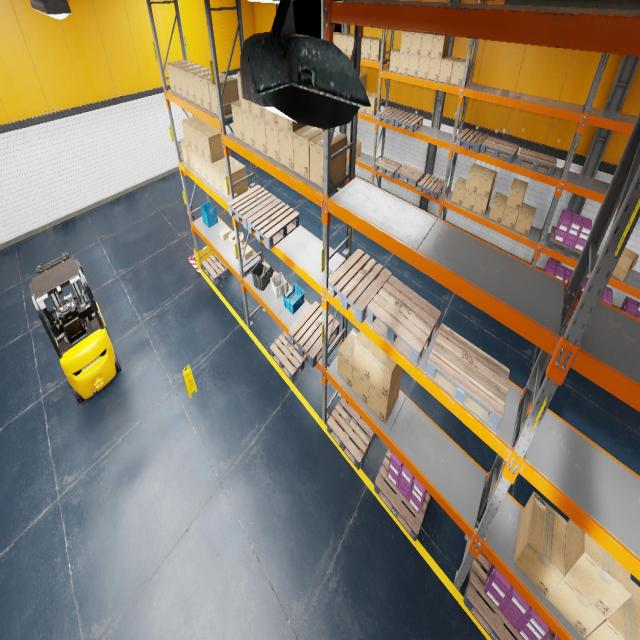box: (547, 522, 605, 638), (565, 519, 631, 618), (514, 492, 566, 598), (586, 580, 640, 640), (309, 129, 347, 188), (368, 372, 402, 424), (370, 346, 402, 399), (293, 125, 323, 180), (208, 75, 239, 116), (337, 328, 358, 388), (353, 331, 378, 381), (220, 161, 248, 200), (200, 72, 226, 112), (201, 127, 229, 163), (212, 155, 237, 194), (192, 70, 218, 107), (178, 64, 204, 100), (185, 67, 210, 104), (612, 247, 638, 282), (172, 62, 196, 96), (166, 60, 190, 93), (514, 203, 536, 236), (278, 126, 294, 171), (506, 178, 528, 210), (194, 123, 214, 158), (352, 365, 369, 405), (187, 120, 207, 153), (265, 120, 280, 163), (181, 116, 201, 148), (488, 192, 508, 224), (476, 168, 496, 198), (238, 71, 252, 113), (253, 114, 267, 156), (231, 100, 245, 142), (450, 58, 471, 86), (465, 164, 485, 192), (438, 56, 458, 84), (242, 109, 256, 148), (278, 114, 306, 132), (473, 191, 492, 216), (431, 34, 450, 59), (451, 177, 467, 206), (500, 206, 520, 229), (370, 38, 386, 60), (366, 93, 381, 116), (362, 36, 377, 58), (420, 33, 433, 57), (462, 189, 476, 211), (359, 91, 373, 113), (417, 56, 430, 79), (428, 58, 441, 81), (205, 159, 215, 188), (198, 153, 208, 182), (407, 54, 420, 76), (348, 138, 362, 158), (340, 34, 354, 54), (410, 32, 422, 55), (192, 149, 202, 176), (400, 31, 412, 53), (389, 49, 400, 72), (264, 107, 278, 125), (180, 138, 189, 166), (186, 144, 195, 170), (398, 53, 409, 74), (252, 102, 264, 119), (232, 242, 244, 258), (334, 32, 346, 48), (241, 245, 253, 260), (232, 232, 244, 246), (361, 36, 368, 58), (228, 231, 240, 243), (220, 227, 231, 240), (347, 35, 354, 55), (359, 73, 366, 91), (333, 32, 340, 42)
forklift: (29, 251, 121, 403)
pallets: (425, 324, 510, 432), (367, 276, 441, 366), (463, 551, 524, 640), (374, 449, 431, 541), (328, 248, 391, 324), (327, 397, 376, 469), (289, 301, 339, 367), (247, 198, 299, 250), (228, 185, 276, 229), (270, 331, 308, 382), (547, 226, 581, 261), (516, 148, 557, 177), (480, 136, 520, 163), (202, 253, 232, 284), (455, 128, 489, 153), (395, 164, 424, 187), (418, 174, 444, 199), (374, 156, 402, 178), (394, 112, 424, 132), (377, 106, 405, 125), (545, 627, 553, 639), (570, 310, 574, 319), (347, 140, 348, 144)
